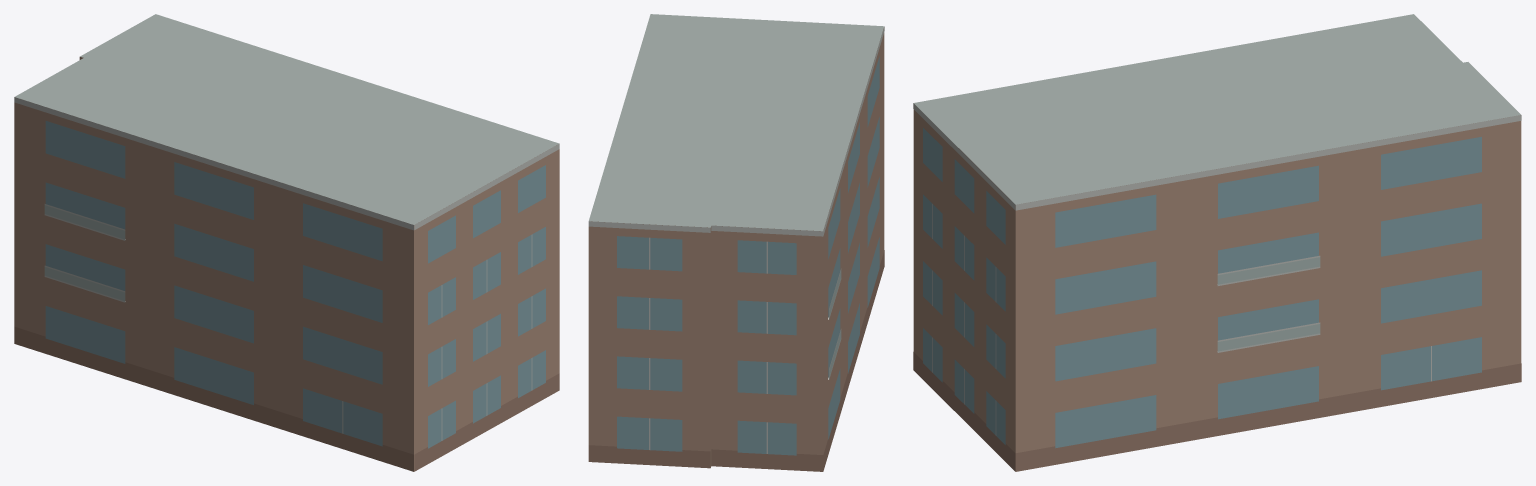
File: survey-upis-32806534.glb
3 views of the same model, side by side, from view 1: azimuth 30°, elevation 25°; view 2: azimuth 150°, elevation 25°; view 3: azimuth 270°, elevation 25° (orthographic). The views are drawn at different scales.
Parts seen in each view (by area): view 1: survey-upis-32806534.tmp; view 2: survey-upis-32806534.tmp; view 3: survey-upis-32806534.tmp.
Part boxes in pixels (<box>): survey-upis-32806534.tmp: <box>14,14,559,471</box>; survey-upis-32806534.tmp: <box>588,14,884,471</box>; survey-upis-32806534.tmp: <box>913,14,1521,471</box>.
Size of the model in its own units: 16.93 by 11.05 by 22.8.
